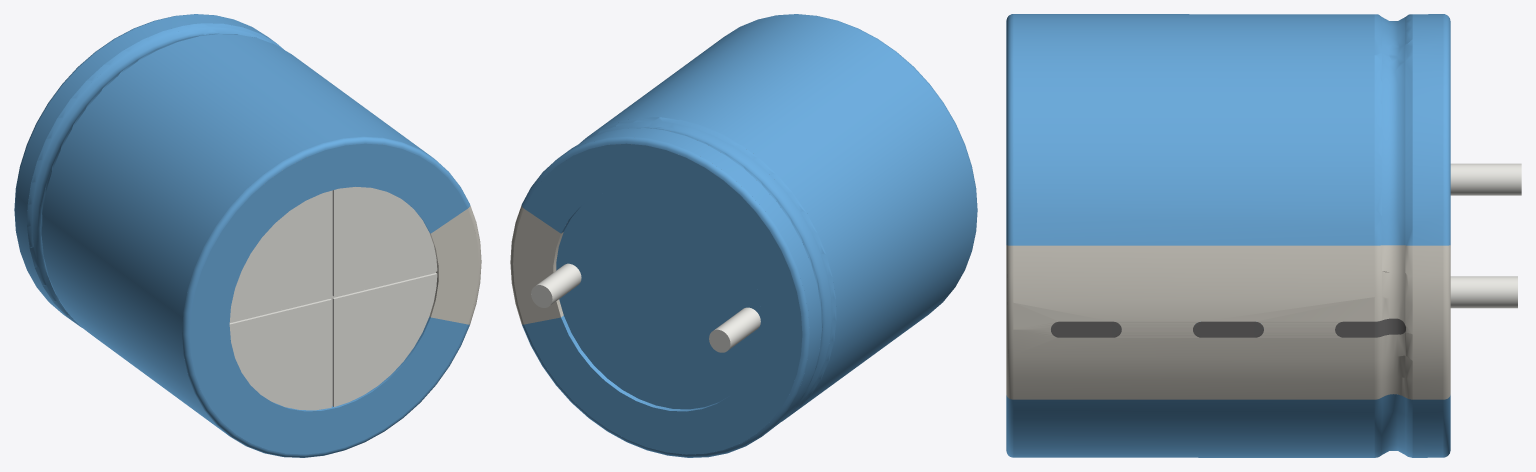
The model's file is CP_Radial_D12.5mm_P7.50mm.glb.
3 renders of one model, left to right at view 1: azimuth 30°, elevation 25°; view 2: azimuth 150°, elevation 25°; view 3: azimuth 270°, elevation 25°, orthographic. The views are drawn at different scales.
Parts seen in each view (by area): view 1: Shape_IndexedFaceSet.023, Shape_IndexedFaceSet.031, Shape_IndexedFaceSet.035, Shape_IndexedFaceSet.041, Shape_IndexedFaceSet.037, Shape_IndexedFaceSet.044, Shape_IndexedFaceSet.011, Shape_IndexedFaceSet.026, Shape_IndexedFaceSet.032, Shape_IndexedFaceSet.015, Shape_IndexedFaceSet.013, Shape_IndexedFaceSet.038 (+2 smaller); view 2: Shape_IndexedFaceSet.023, Shape_IndexedFaceSet.002, Shape_IndexedFaceSet.006, Shape_IndexedFaceSet.011, Shape_IndexedFaceSet.009, Shape_IndexedFaceSet.015, Shape_IndexedFaceSet.007, Shape_IndexedFaceSet.019, Shape_IndexedFaceSet.005, Shape_IndexedFaceSet.001, Shape_IndexedFaceSet.003, Shape_IndexedFaceSet.013 (+1 smaller); view 3: Shape_IndexedFaceSet.023, Shape_IndexedFaceSet.025, Shape_IndexedFaceSet.011, Shape_IndexedFaceSet.015, Shape_IndexedFaceSet.012, Shape_IndexedFaceSet.005, Shape_IndexedFaceSet.019, Shape_IndexedFaceSet.013, Shape_IndexedFaceSet.026, Shape_IndexedFaceSet.009, Shape_IndexedFaceSet.001, Shape_IndexedFaceSet.016 (+8 smaller).
Boxes of the visible parts, box(x1,y1,x2,y2) form: Shape_IndexedFaceSet.023: box(42, 34, 432, 435); Shape_IndexedFaceSet.031: box(189, 143, 467, 454); Shape_IndexedFaceSet.035: box(334, 274, 437, 406); Shape_IndexedFaceSet.041: box(229, 300, 331, 410); Shape_IndexedFaceSet.037: box(334, 187, 437, 296); Shape_IndexedFaceSet.044: box(230, 191, 331, 321); Shape_IndexedFaceSet.011: box(15, 14, 275, 323); Shape_IndexedFaceSet.026: box(182, 136, 470, 457); Shape_IndexedFaceSet.032: box(431, 209, 478, 324); Shape_IndexedFaceSet.015: box(31, 27, 270, 316); Shape_IndexedFaceSet.013: box(27, 23, 283, 327); Shape_IndexedFaceSet.038: box(229, 190, 435, 406); Shape_IndexedFaceSet.023: box(588, 14, 976, 416); Shape_IndexedFaceSet.002: box(556, 187, 762, 409); Shape_IndexedFaceSet.006: box(524, 143, 802, 454); Shape_IndexedFaceSet.011: box(559, 128, 821, 435); Shape_IndexedFaceSet.009: box(521, 136, 809, 457); Shape_IndexedFaceSet.015: box(592, 121, 831, 409); Shape_IndexedFaceSet.007: box(513, 209, 560, 324); Shape_IndexedFaceSet.019: box(579, 117, 836, 421); Shape_IndexedFaceSet.005: box(714, 307, 760, 349); Shape_IndexedFaceSet.001: box(536, 263, 581, 305); Shape_IndexedFaceSet.003: box(561, 206, 730, 411); Shape_IndexedFaceSet.013: box(628, 127, 822, 415); Shape_IndexedFaceSet.023: box(1013, 14, 1374, 457); Shape_IndexedFaceSet.025: box(1013, 245, 1374, 399); Shape_IndexedFaceSet.011: box(1412, 14, 1443, 457); Shape_IndexedFaceSet.015: box(1382, 17, 1405, 454); Shape_IndexedFaceSet.012: box(1412, 245, 1443, 399); Shape_IndexedFaceSet.005: box(1450, 163, 1521, 195); Shape_IndexedFaceSet.019: box(1374, 14, 1381, 457); Shape_IndexedFaceSet.013: box(1405, 14, 1412, 457); Shape_IndexedFaceSet.026: box(1006, 14, 1013, 457); Shape_IndexedFaceSet.009: box(1443, 14, 1450, 457); Shape_IndexedFaceSet.001: box(1450, 276, 1517, 308); Shape_IndexedFaceSet.016: box(1382, 245, 1405, 324).
Size of the model in its own units: 4.92 by 4.92 by 5.71.
